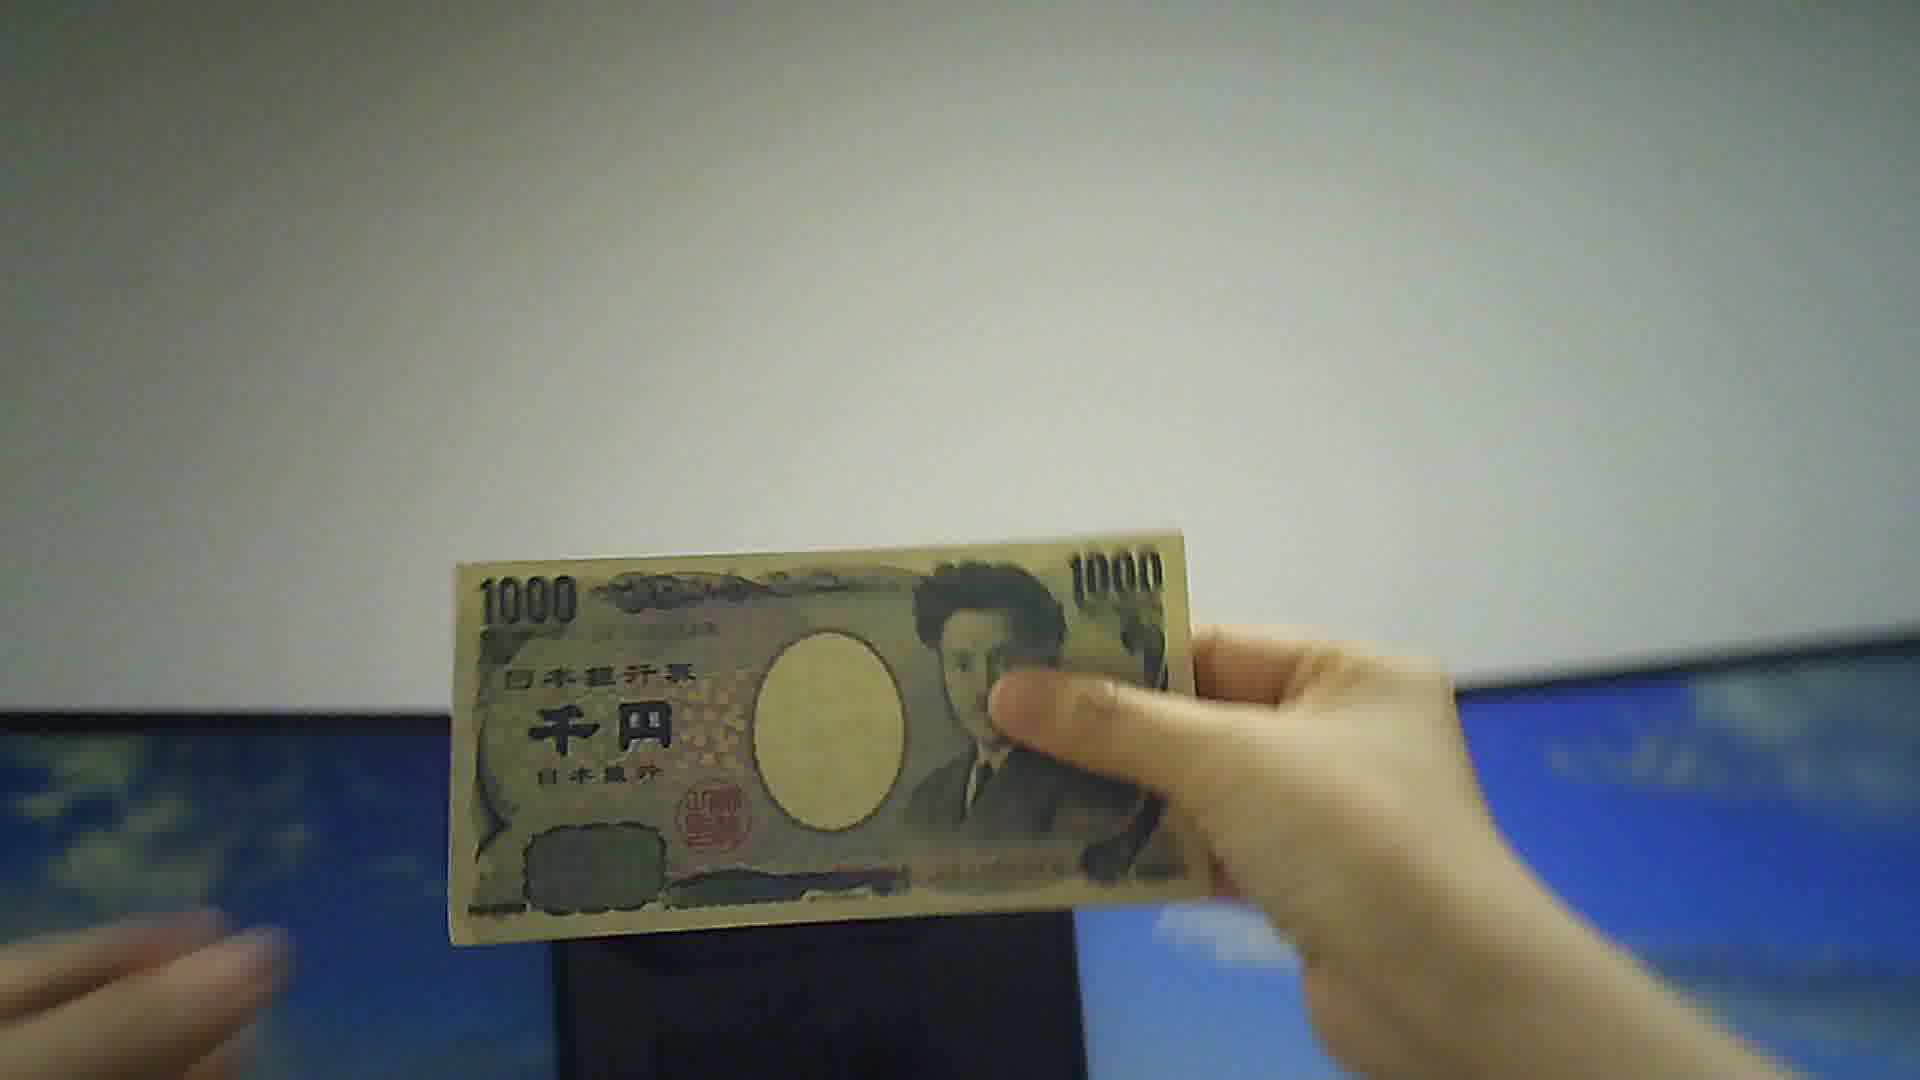1,000 Yen: (446, 538, 1233, 930)
